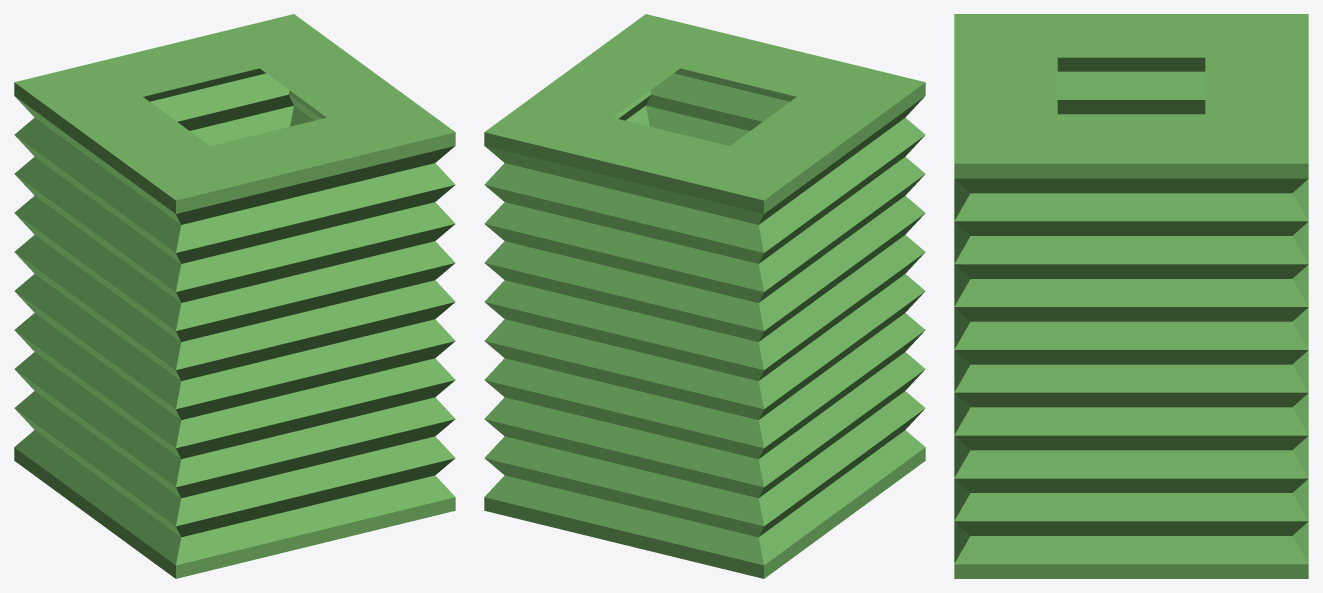
File: bellows_geo.obj
3 renders of one model, left to right at view 1: azimuth 30°, elevation 25°; view 2: azimuth 150°, elevation 25°; view 3: azimuth 270°, elevation 25°, orthographic. The views are drawn at different scales.
Visible parts, largest first — view 1: bellows_geo; view 2: bellows_geo; view 3: bellows_geo.
Part boxes in pixels (left/top/right/bottom): bellows_geo: left=14, top=14, right=455, bottom=578; bellows_geo: left=484, top=14, right=925, bottom=578; bellows_geo: left=954, top=14, right=1308, bottom=578.
Size of the model in its own units: 0.5 by 0.6461 by 0.5.
